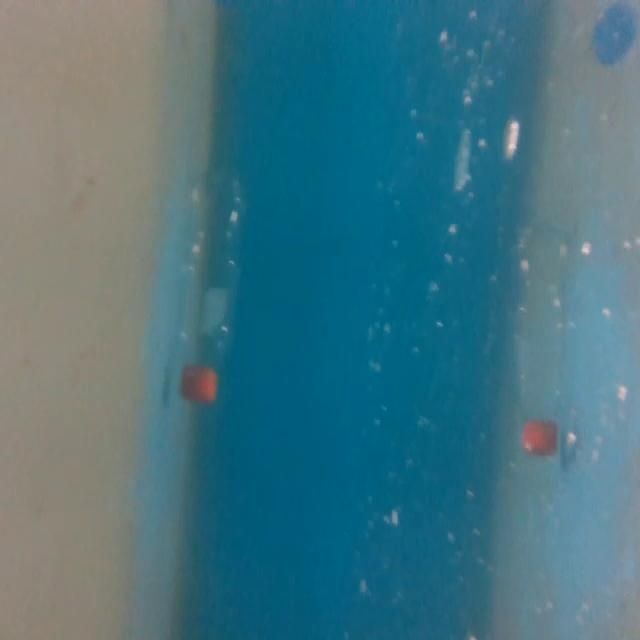plastic bottle: (172, 165, 253, 407)
